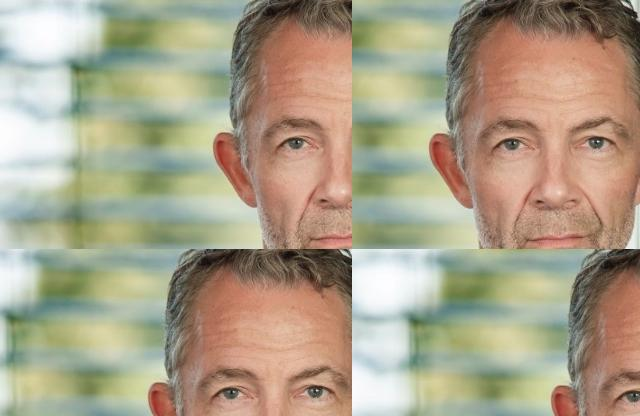crows_feet: (292, 156, 316, 192), (352, 127, 372, 162), (620, 121, 640, 156), (188, 314, 212, 342)
forehead: (469, 35, 509, 56), (554, 36, 588, 60), (418, 40, 458, 58), (404, 67, 426, 95), (512, 46, 542, 64)
frown_line: (492, 61, 508, 97), (458, 67, 478, 95)
gummy_smile: (560, 219, 597, 249), (381, 225, 426, 249), (321, 224, 345, 249)
masseter: (202, 407, 222, 416)
sad_smile: (342, 399, 352, 416)
